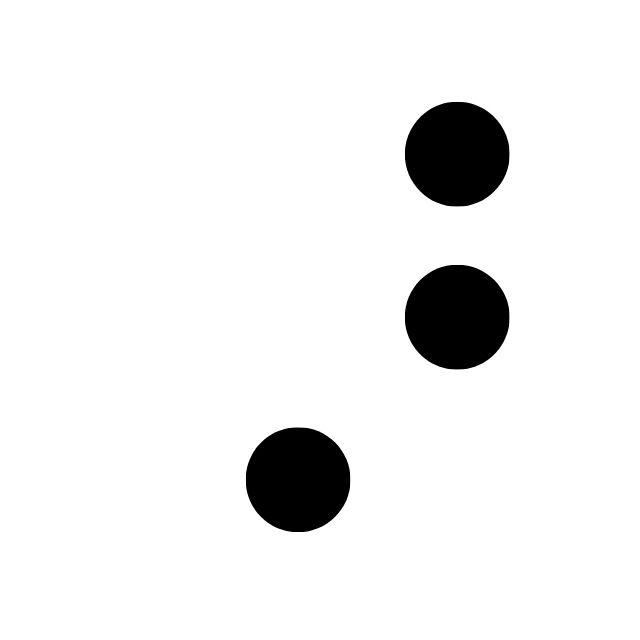ar: (247, 102, 511, 535)
